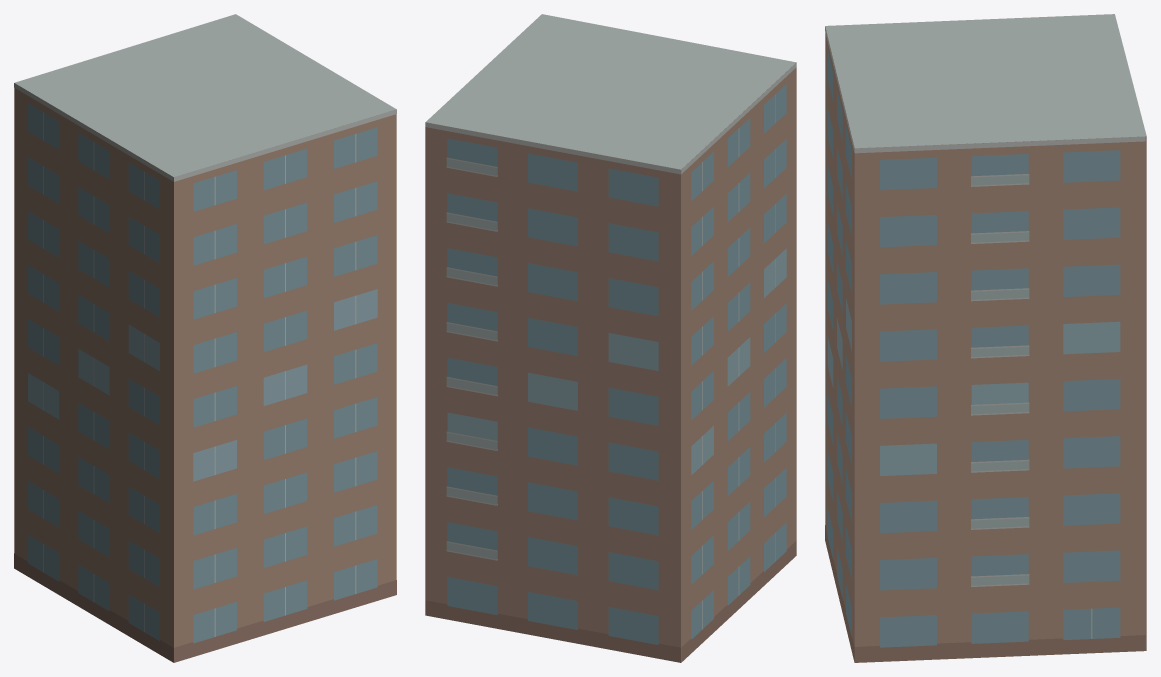
Rendered from survey-upis-33041947.glb.
3 renders of one model, left to right at view 1: azimuth 30°, elevation 25°; view 2: azimuth 150°, elevation 25°; view 3: azimuth 270°, elevation 25°, orthographic. The views are drawn at different scales.
Parts seen in each view (by area): view 1: survey-upis-33041947.tmp; view 2: survey-upis-33041947.tmp; view 3: survey-upis-33041947.tmp.
Boxes of the visible parts, left/top/right/bottom form: survey-upis-33041947.tmp: left=14, top=14, right=396, bottom=662; survey-upis-33041947.tmp: left=425, top=14, right=796, bottom=662; survey-upis-33041947.tmp: left=825, top=14, right=1146, bottom=662.
Size of the model in its own units: 14.12 by 25.2 by 14.29.
